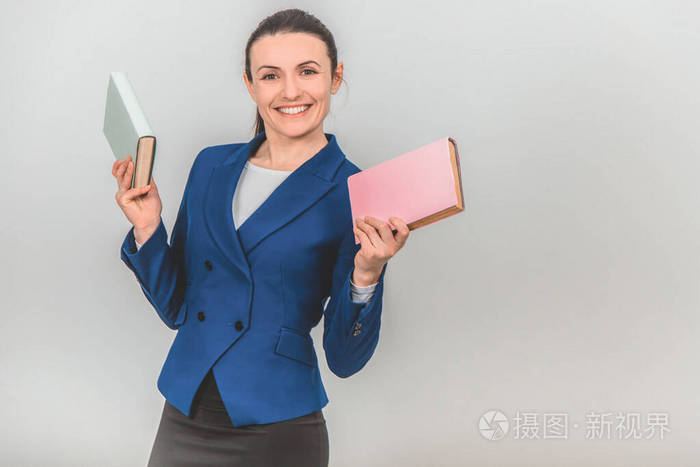no-phone: (352, 129, 473, 279), (102, 66, 168, 229)
